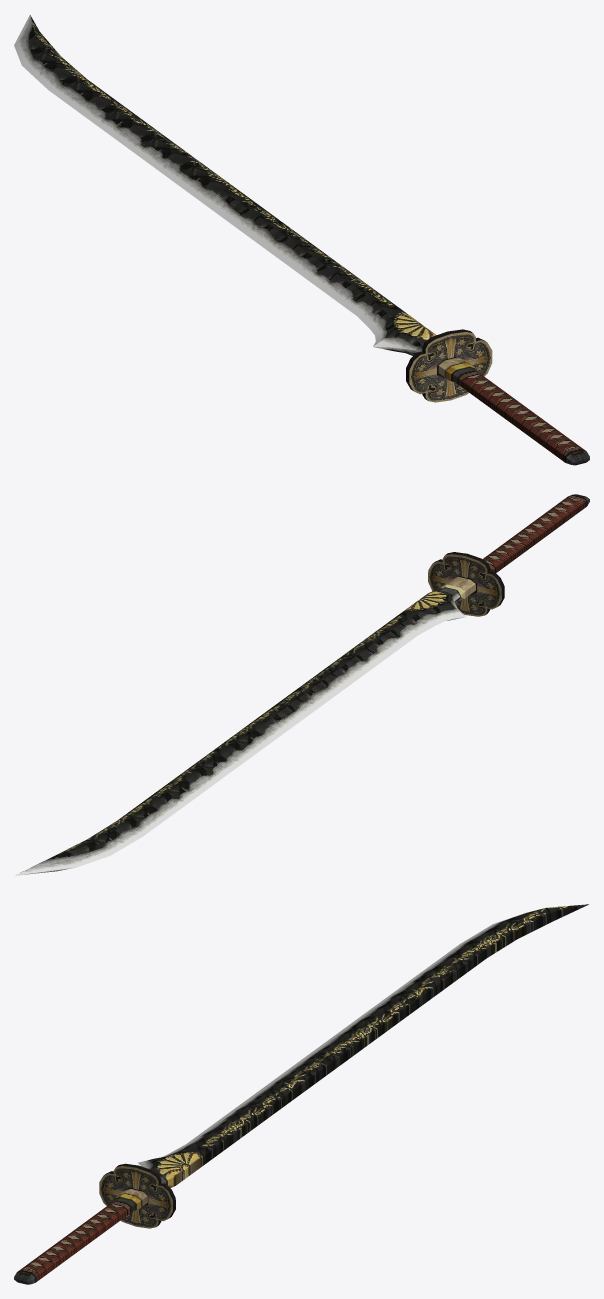
The model's file is weapon_lstest_ichimonji.glb.
3 views of the same model, one above another, from view 1: azimuth 30°, elevation 25°; view 2: azimuth 150°, elevation 25°; view 3: azimuth 330°, elevation 25° (orthographic). The views are drawn at different scales.
Size of the model in its own units: 0.1335 by 0.0973 by 1.58.
Materials: 1 (1 with a texture image).
